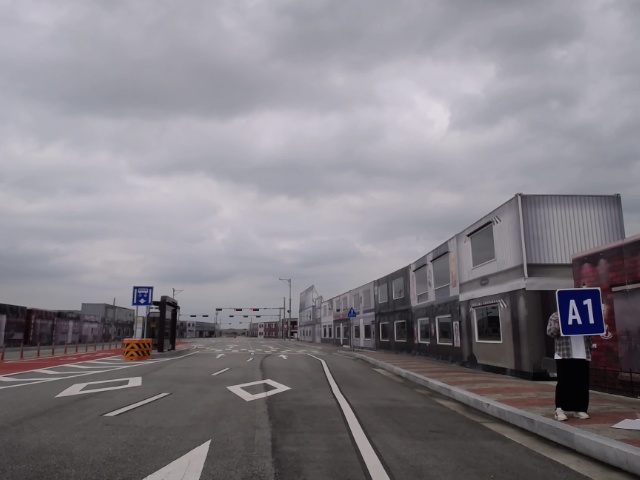delivery_a1: (556, 288, 605, 336)
